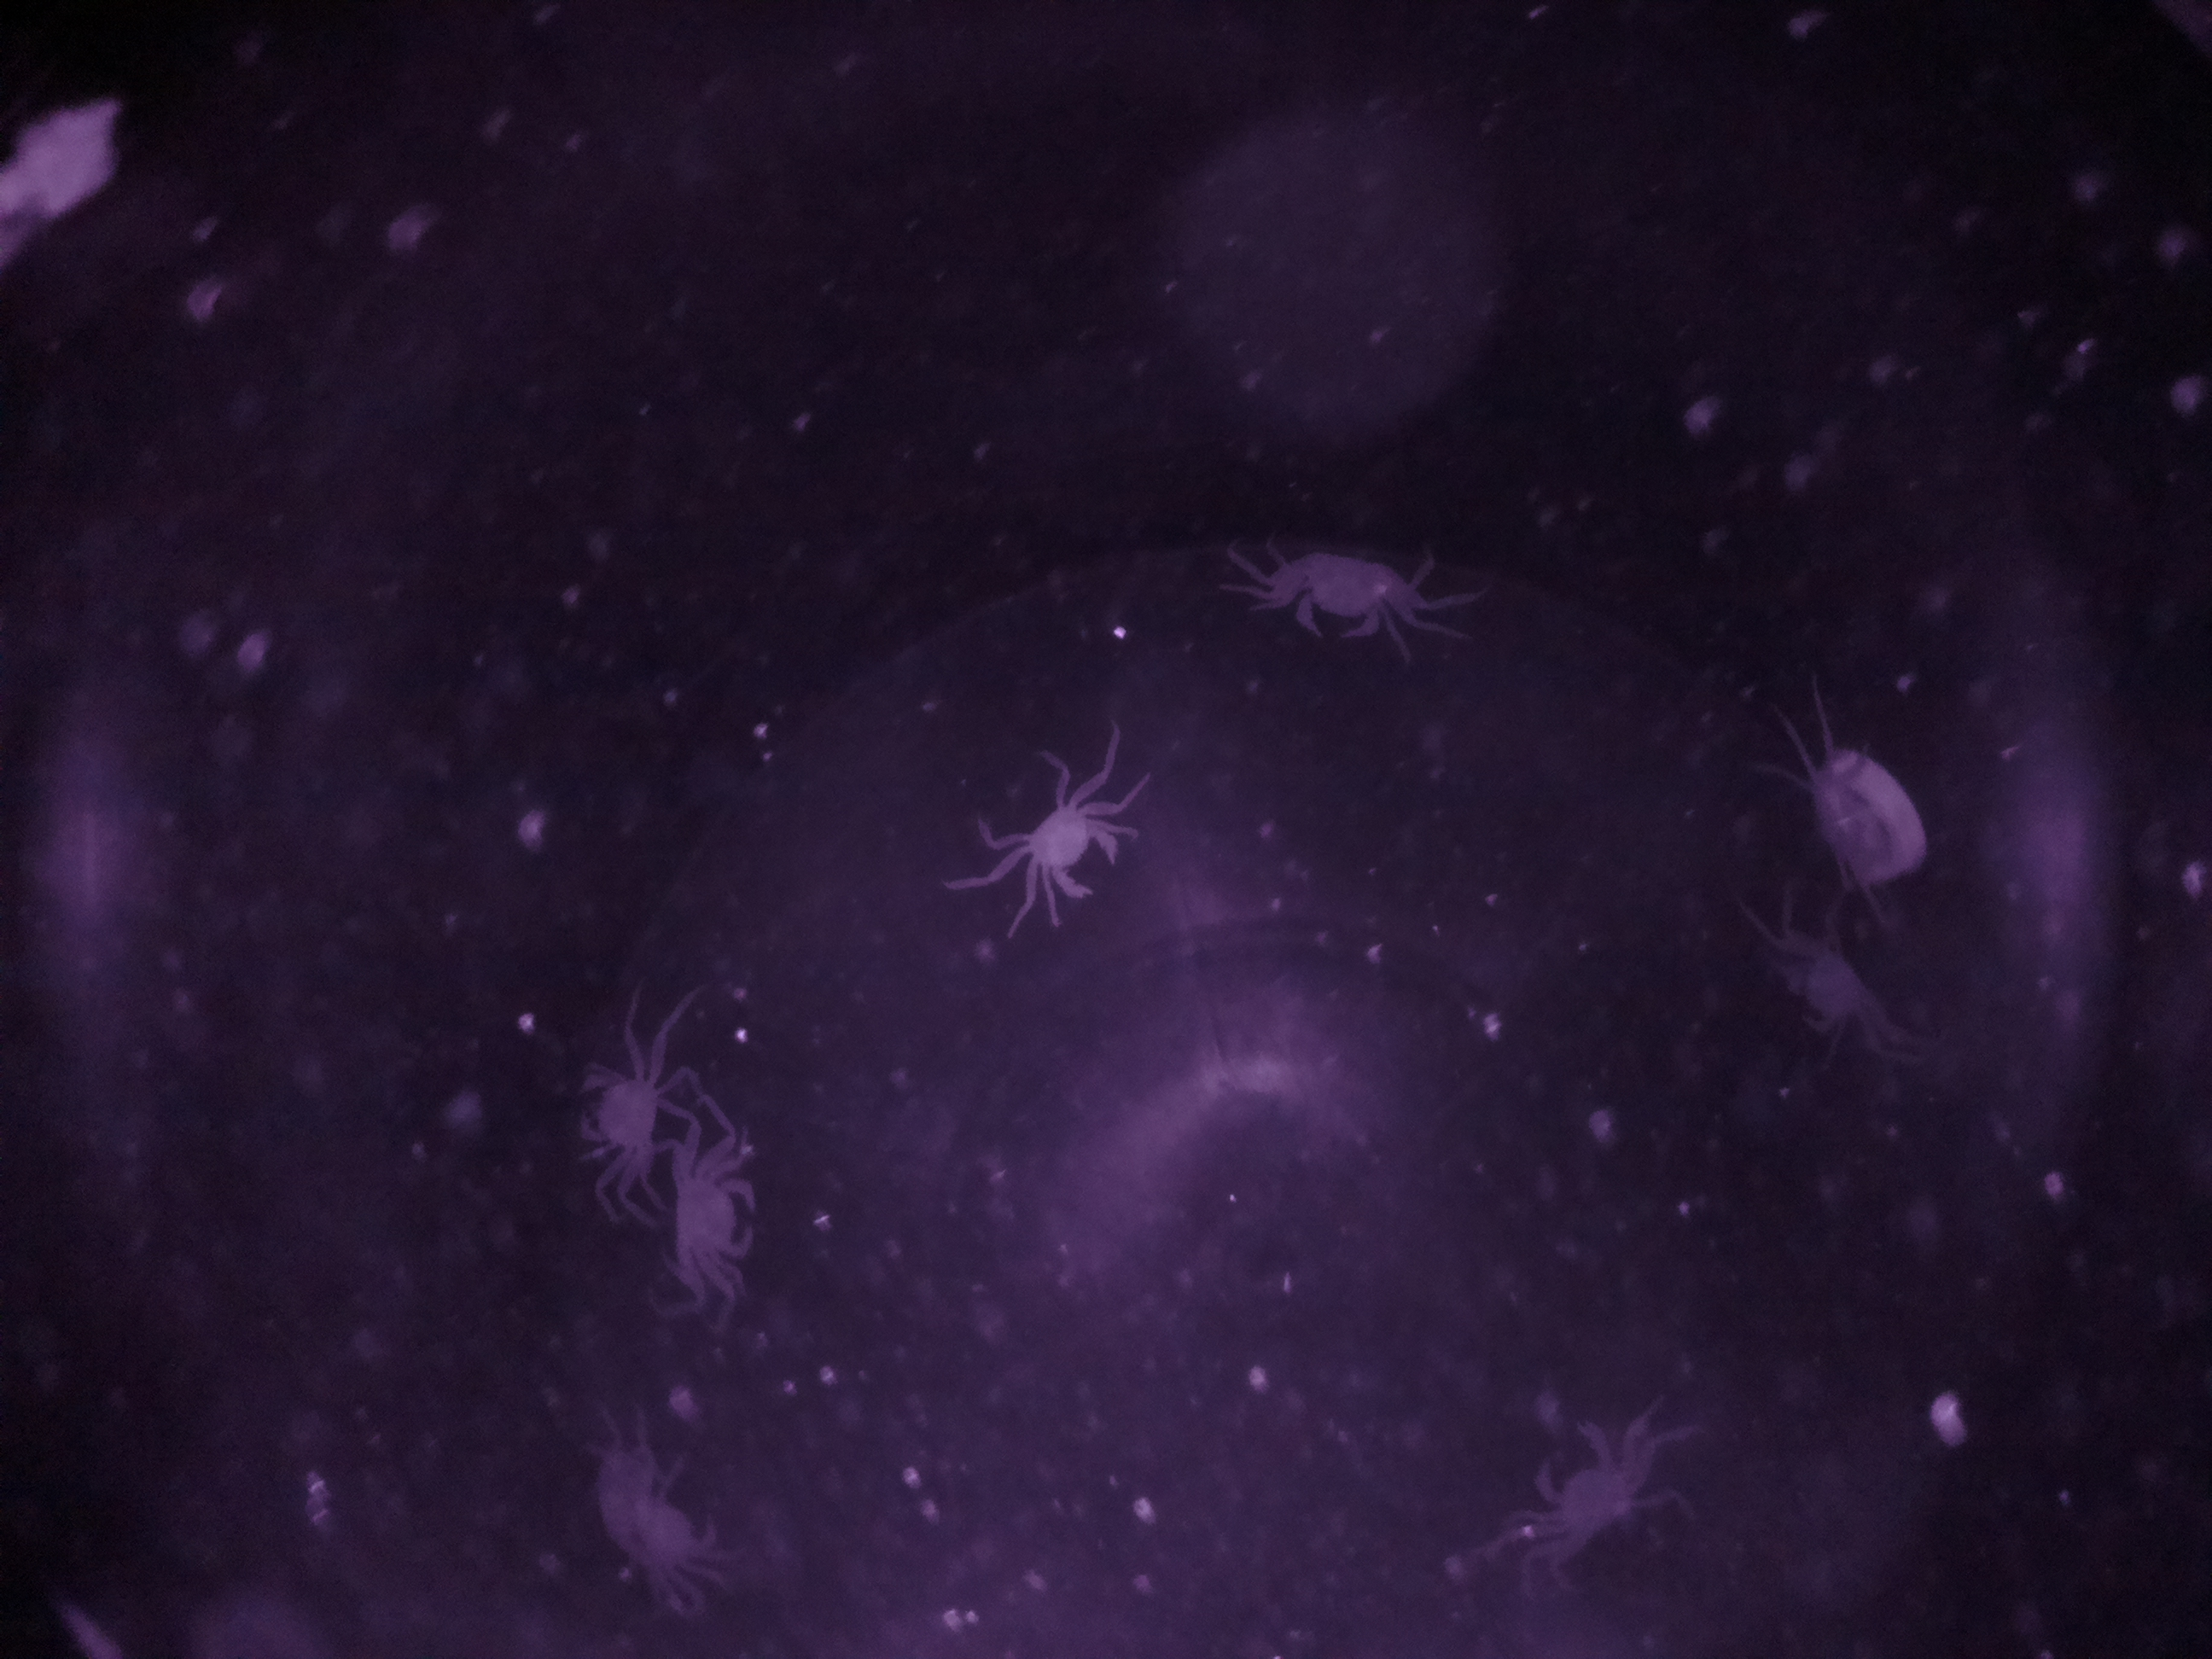Crab: (1519, 1405, 1658, 1575), (1001, 772, 1136, 922), (1256, 538, 1423, 655), (660, 1145, 780, 1288), (1766, 925, 1888, 1053), (566, 1060, 679, 1176)
